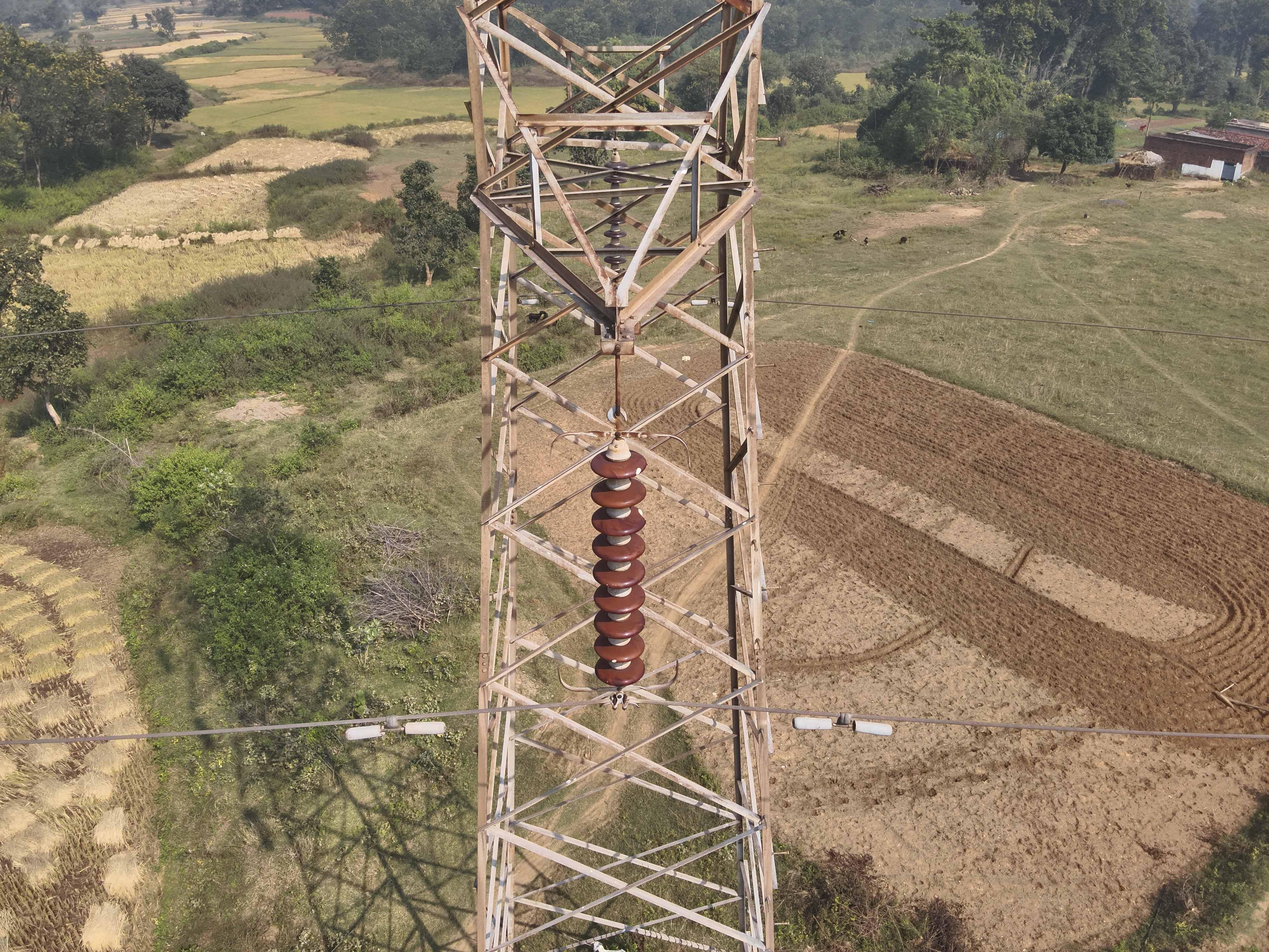broken_insulator: (590, 507, 658, 537)
